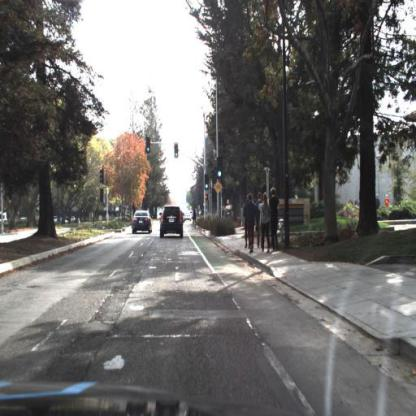biker: (192, 208, 199, 234)
car: (160, 205, 184, 241), (132, 208, 154, 239)
pedestrian: (261, 191, 272, 251), (270, 188, 280, 249), (246, 195, 256, 253), (271, 193, 280, 248), (257, 188, 264, 251), (249, 194, 256, 256), (261, 193, 268, 253), (257, 191, 262, 252), (244, 195, 249, 251), (244, 195, 249, 249)
trafficLight-Green: (219, 158, 224, 181), (146, 138, 152, 155), (205, 174, 210, 191), (218, 162, 223, 178), (175, 144, 180, 159), (205, 178, 210, 190), (147, 140, 151, 153), (176, 145, 179, 157)
